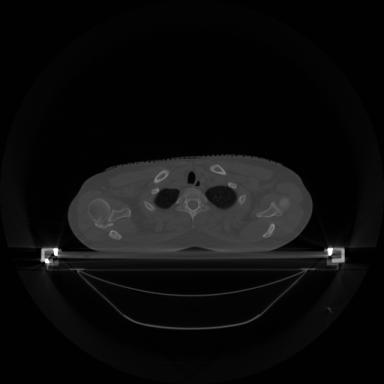body: (68, 155, 312, 252)
cord: (187, 200, 200, 210)
paru kanan: (154, 188, 178, 208)
paru kiri: (206, 186, 237, 208)
